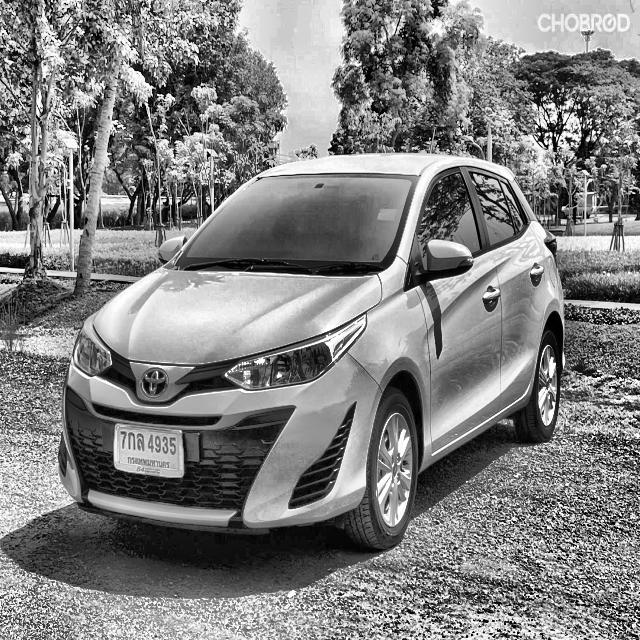license-plate: (113, 421, 187, 478)
